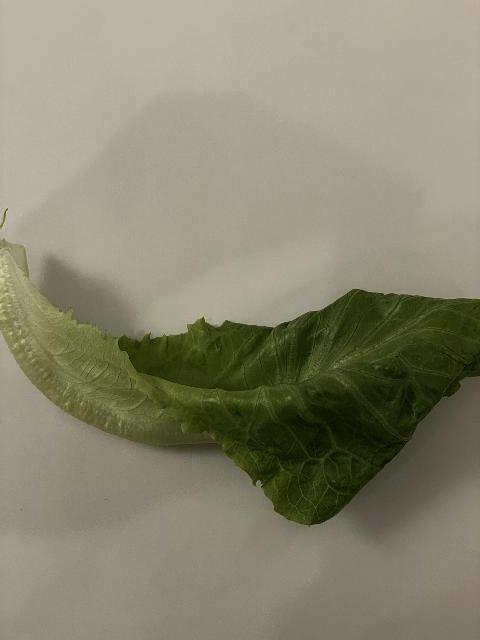lettuce: (0, 238, 480, 528)
